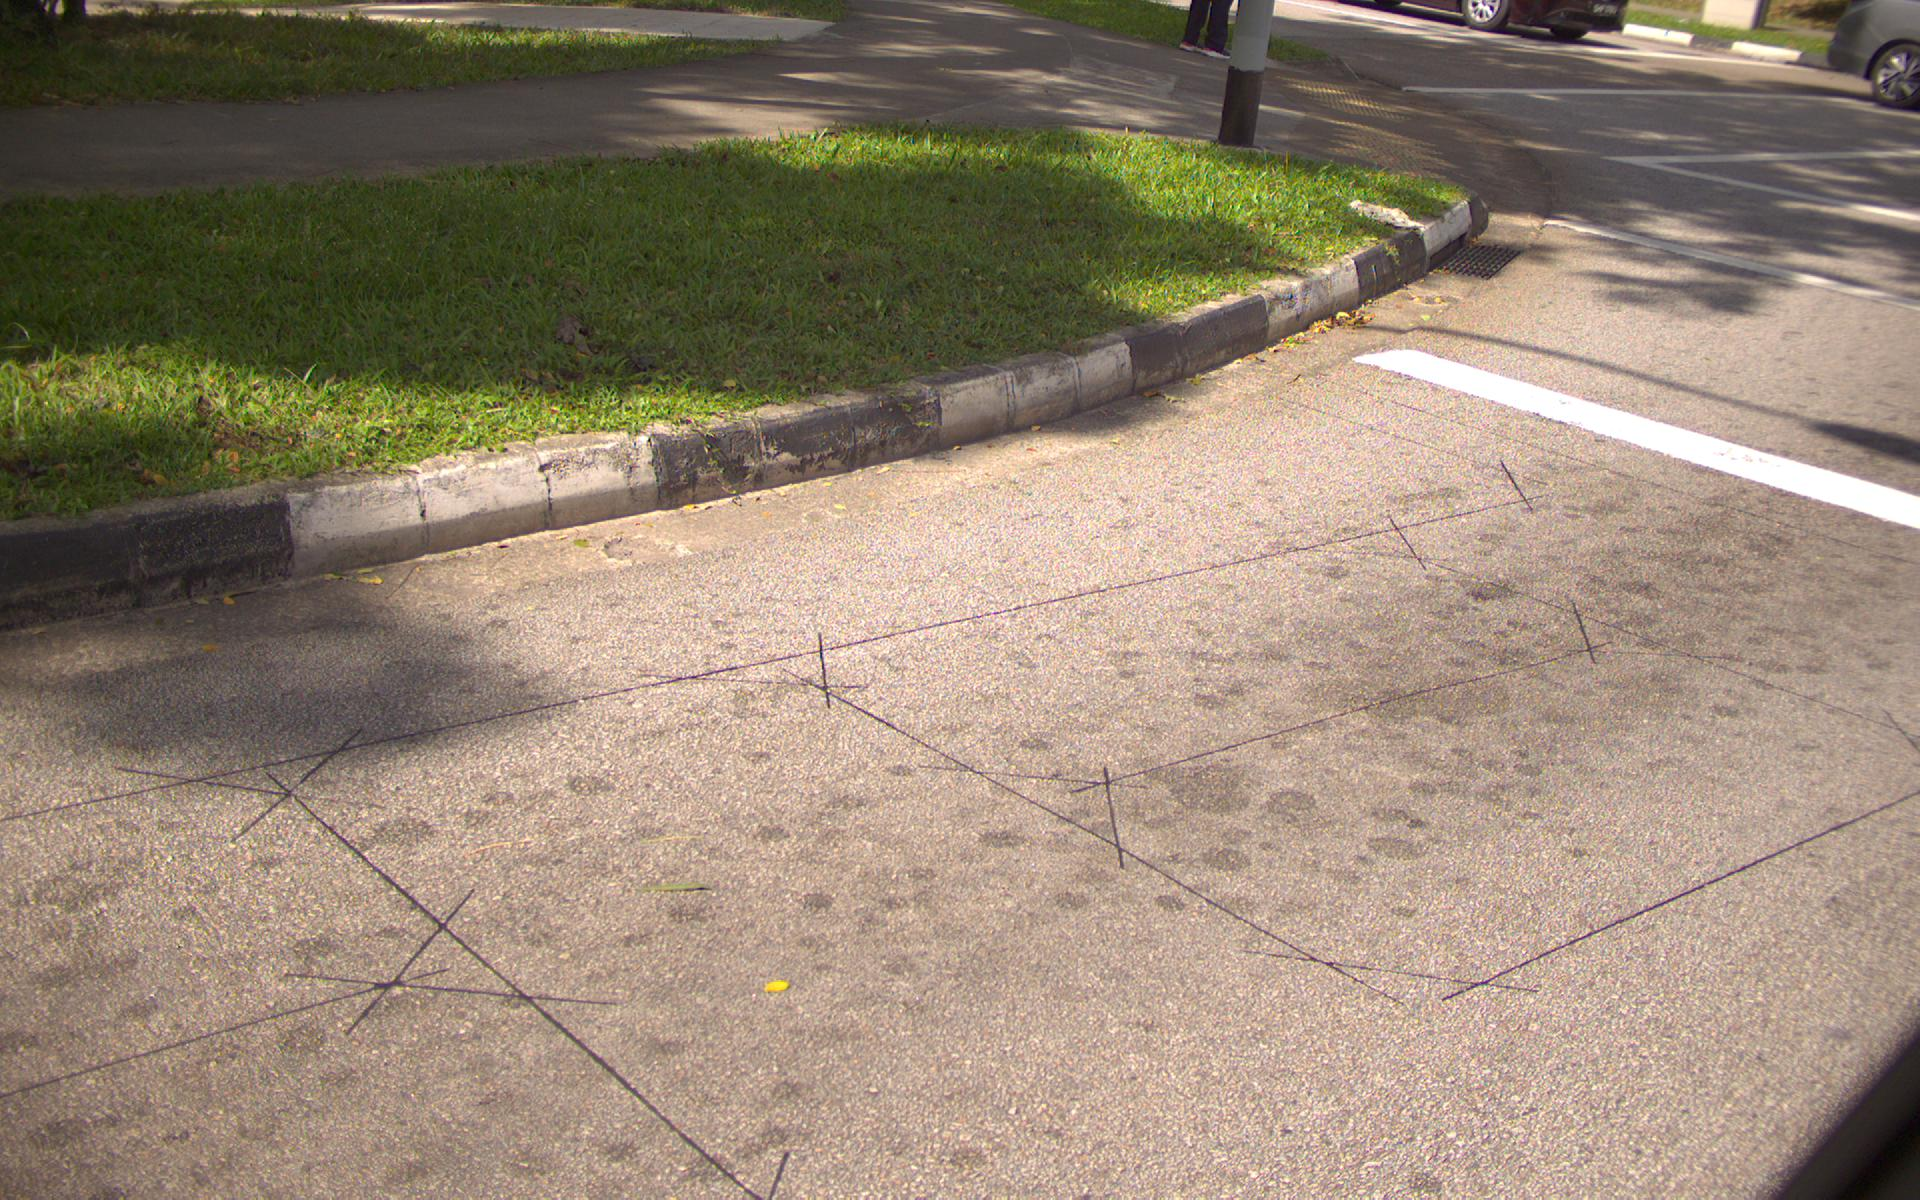curb_grill_low: (1433, 234, 1521, 285)
road_turf_low: (22, 124, 1451, 509)
